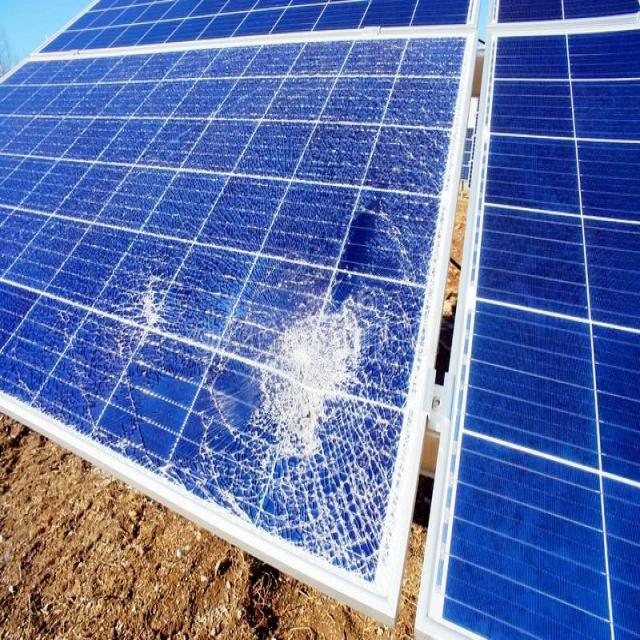faulty: (0, 25, 482, 602)
no faulty: (412, 21, 635, 640)
